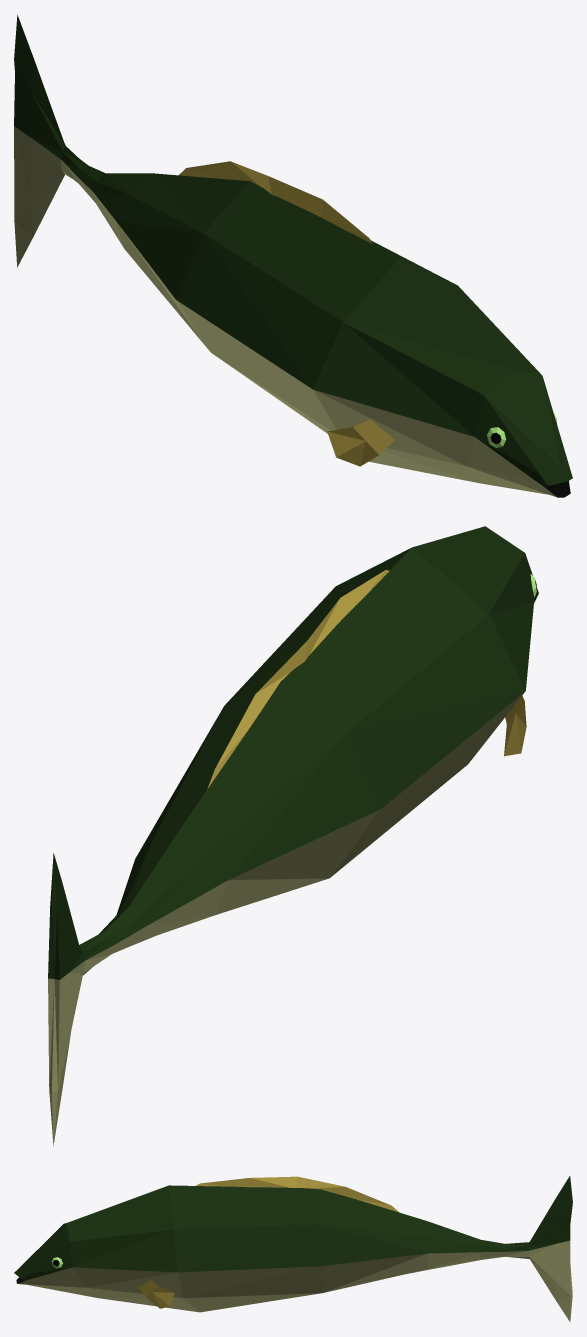
Rendered from Minnow_000005.obj.
3 renders of one model, top to bottom at view 1: azimuth 30°, elevation 25°; view 2: azimuth 150°, elevation 25°; view 3: azimuth 270°, elevation 25°, orthographic. The views are drawn at different scales.
Bounding box in the file's own units: 0.6913 × 0.9146 × 3.03.
